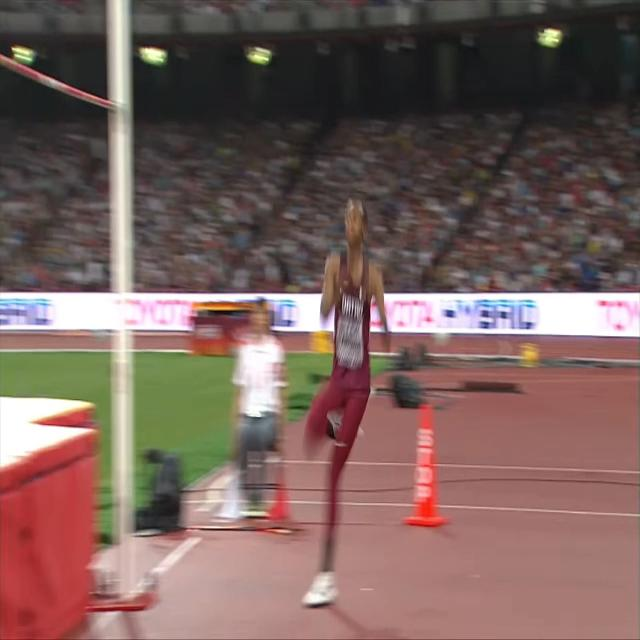jump: (300, 194, 392, 607)
